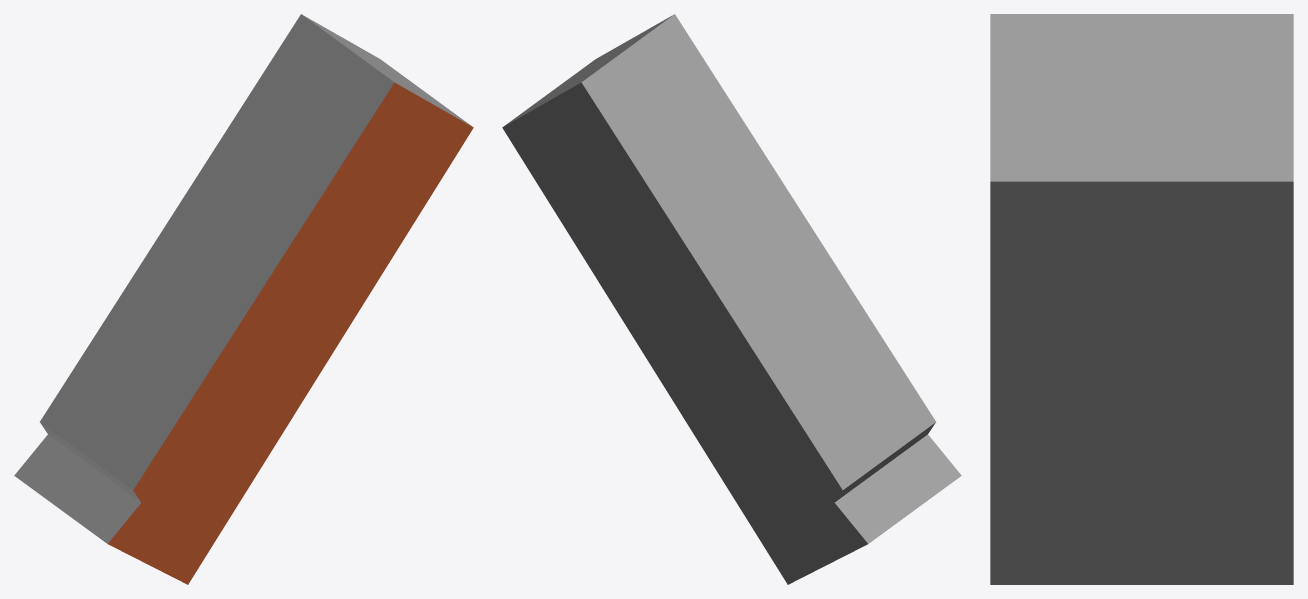
Rendered from construction_3427_assumed_A_Casa_h6m.obj.
3 views of the same model, side by side, from view 1: azimuth 30°, elevation 25°; view 2: azimuth 150°, elevation 25°; view 3: azimuth 270°, elevation 25° (orthographic). The views are drawn at different scales.
Visible parts, largest first — view 1: construction_3427_assumed_A_Casa; view 2: construction_3427_assumed_A_Casa; view 3: construction_3427_assumed_A_Casa.
Boxes of the visible parts, x1,y1,x2,y2 form: construction_3427_assumed_A_Casa: (14,14,473,584); construction_3427_assumed_A_Casa: (502,14,961,584); construction_3427_assumed_A_Casa: (990,14,1293,584).
Size of the model in its own units: 13.58 by 16.02 by 6.
